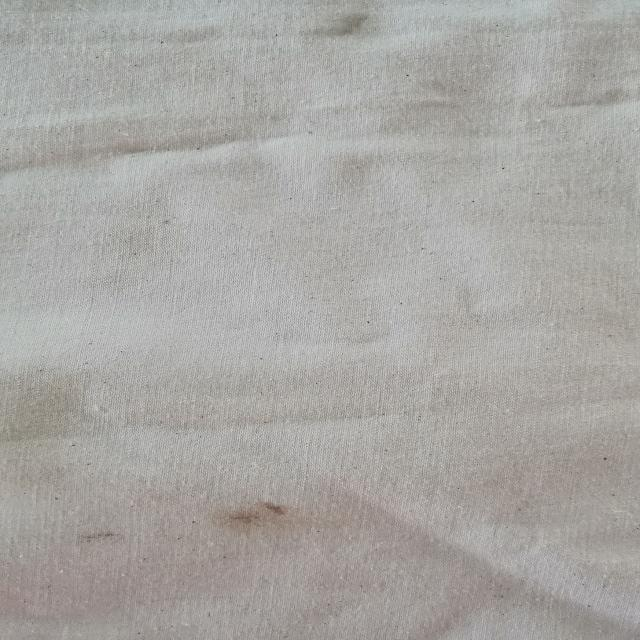taaaches: (202, 484, 316, 548), (294, 4, 414, 52), (45, 512, 146, 560)
